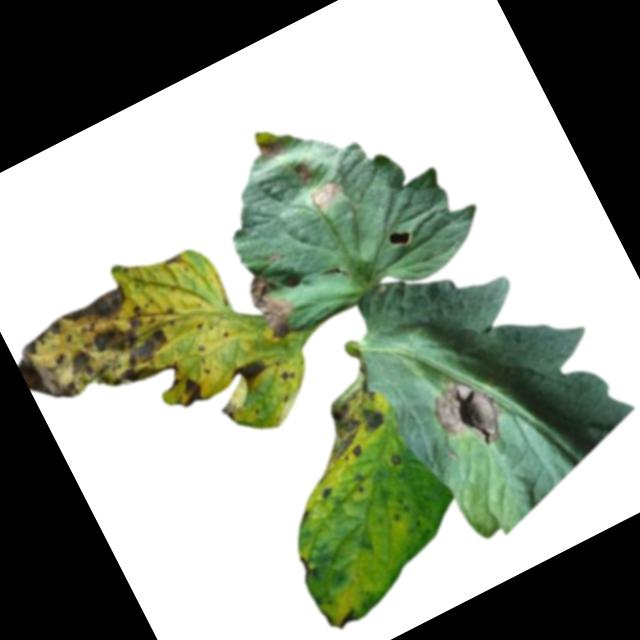Early_blight: (7, 277, 181, 432), (299, 376, 401, 474), (420, 361, 512, 463), (240, 266, 303, 345), (227, 354, 272, 392), (306, 176, 346, 214), (172, 374, 210, 410), (255, 132, 289, 166), (291, 158, 316, 185), (276, 366, 301, 389), (386, 448, 408, 473), (335, 610, 360, 631), (316, 484, 338, 506), (162, 252, 185, 270)
